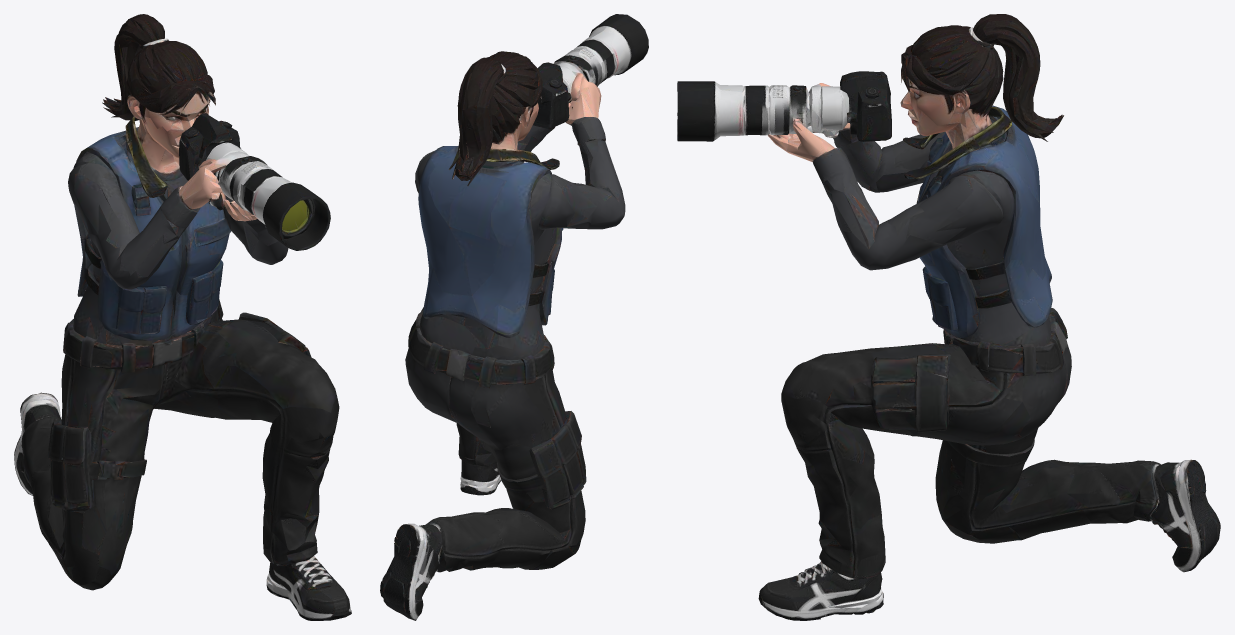
Rendered from photographer-kneeling.glb.
3 views of the same model, side by side, from view 1: azimuth 30°, elevation 25°; view 2: azimuth 150°, elevation 25°; view 3: azimuth 270°, elevation 25° (orthographic). The views are drawn at different scales.
Visible parts, largest first — view 1: Mesh_0.001; view 2: Mesh_0.001; view 3: Mesh_0.001.
Boxes of the visible parts, bbox=[...] form: Mesh_0.001: bbox=[14, 14, 351, 620]; Mesh_0.001: bbox=[380, 14, 648, 620]; Mesh_0.001: bbox=[677, 14, 1220, 620].
Size of the model in its own units: 0.4983 by 1.28 by 1.14.
Materials: 1 (1 with a texture image).
